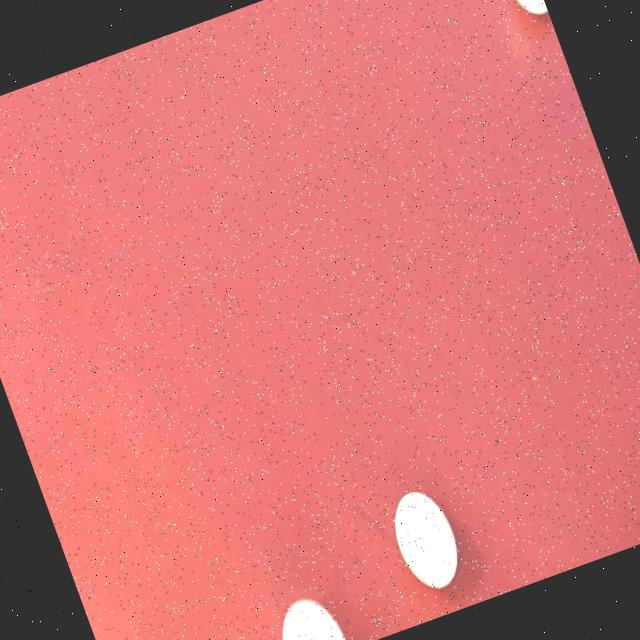ping-pong-ball: (379, 479, 476, 603), (259, 585, 353, 640), (492, 0, 550, 26)
